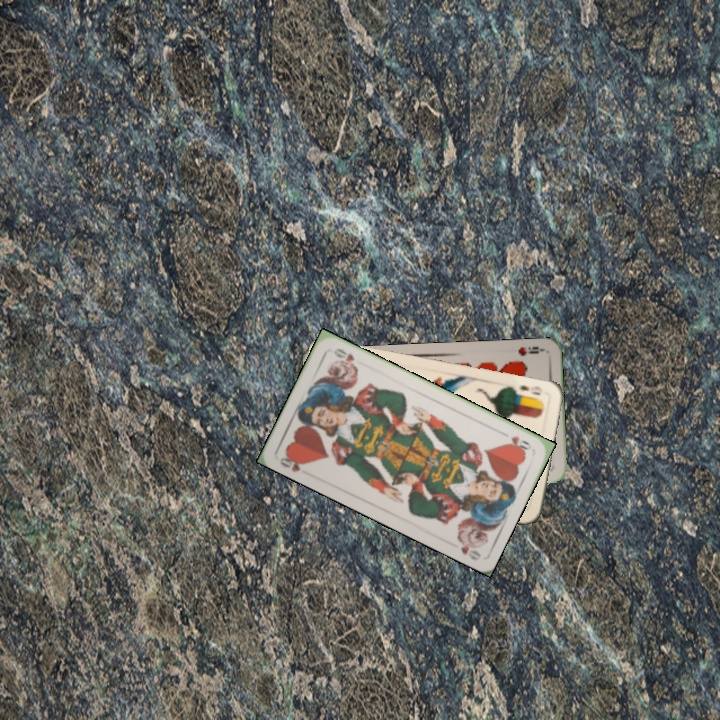EO: (516, 381, 545, 398)
H9: (514, 342, 546, 358)
HO: (276, 449, 309, 475), (505, 432, 532, 454)
